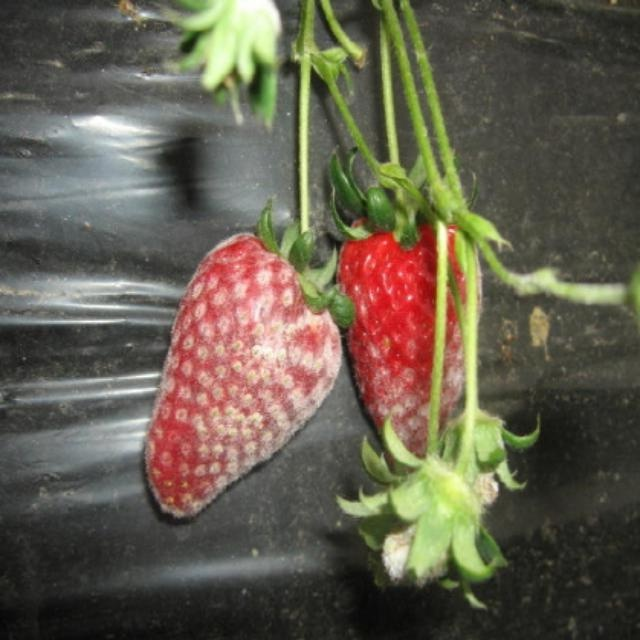Powdery Mildew Fruit: (142, 233, 346, 518), (333, 193, 483, 479)
